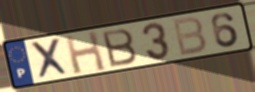3: (141, 22, 171, 62)
6: (210, 12, 240, 49)
B: (100, 27, 139, 69), (171, 15, 209, 58)
H: (63, 29, 109, 76)
X: (28, 36, 73, 81)
